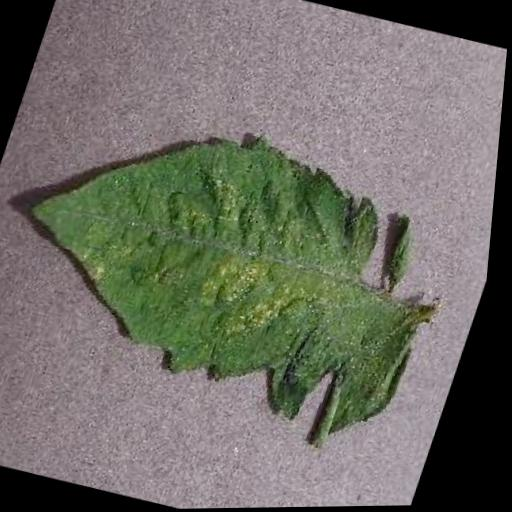Spider Mites: (0, 88, 479, 468)
